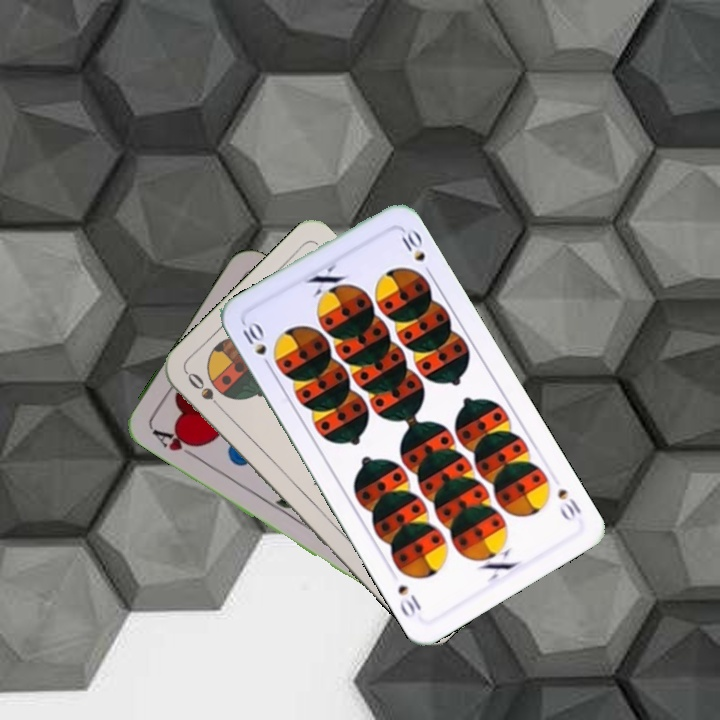HA: (147, 423, 201, 462)
S10: (238, 317, 275, 373), (553, 484, 584, 524)
SO: (183, 368, 228, 416)
